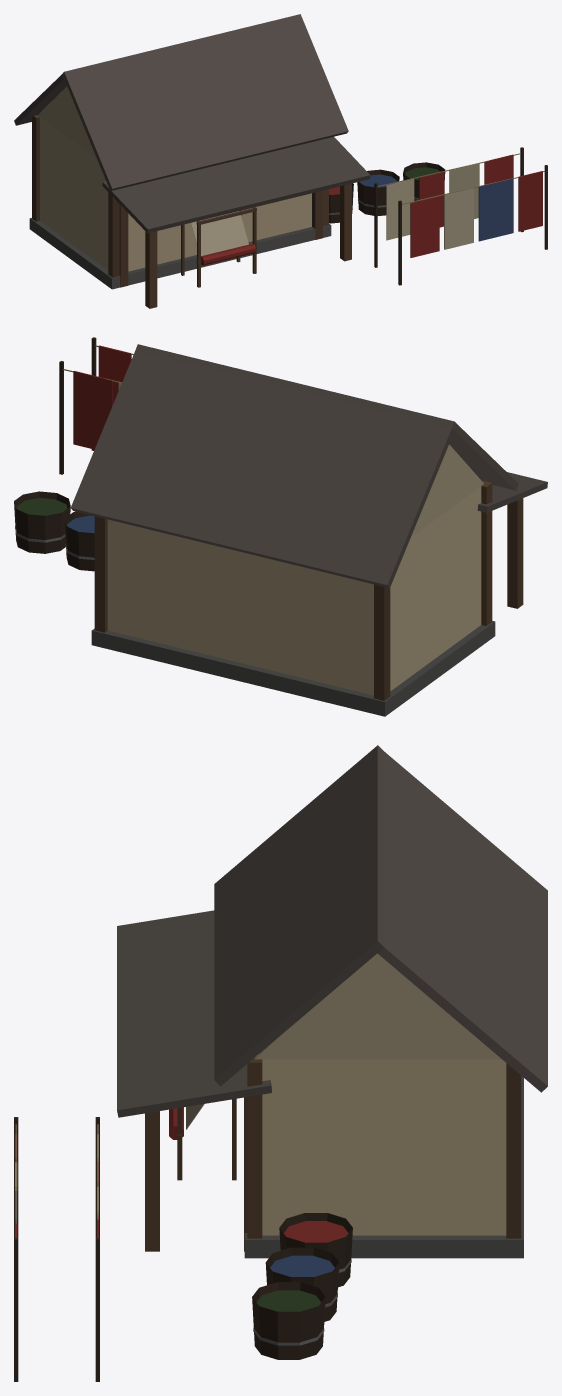
The model's file is walk_hallowed_weaver.glb.
3 views of the same model, one above another, from view 1: azimuth 30°, elevation 25°; view 2: azimuth 150°, elevation 25°; view 3: azimuth 270°, elevation 25° (orthographic). The views are drawn at different scales.
Parts seen in each view (by area): view 1: walk_hallowed_weaver_roof, walk_hallowed_weaver; view 2: walk_hallowed_weaver, walk_hallowed_weaver_roof; view 3: walk_hallowed_weaver_roof, walk_hallowed_weaver.
Part boxes in pixels (box(x1,y1,x2,y2)): walk_hallowed_weaver_roof: box(14, 14, 370, 233); walk_hallowed_weaver: box(29, 86, 547, 308); walk_hallowed_weaver: box(14, 337, 523, 716); walk_hallowed_weaver_roof: box(70, 344, 547, 588); walk_hallowed_weaver_roof: box(117, 745, 547, 1117); walk_hallowed_weaver: box(14, 953, 523, 1381).
Size of what is drawn, in the model's own units: 10.83 by 5.25 by 7.83.
Materials: 2 (2 with a texture image).
